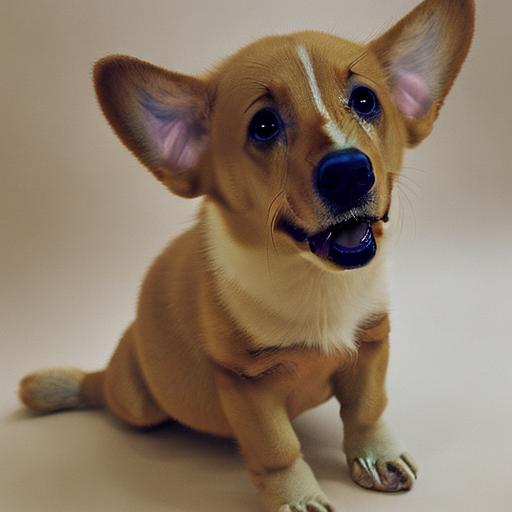eye: (237, 101, 287, 154), (337, 79, 390, 127)
